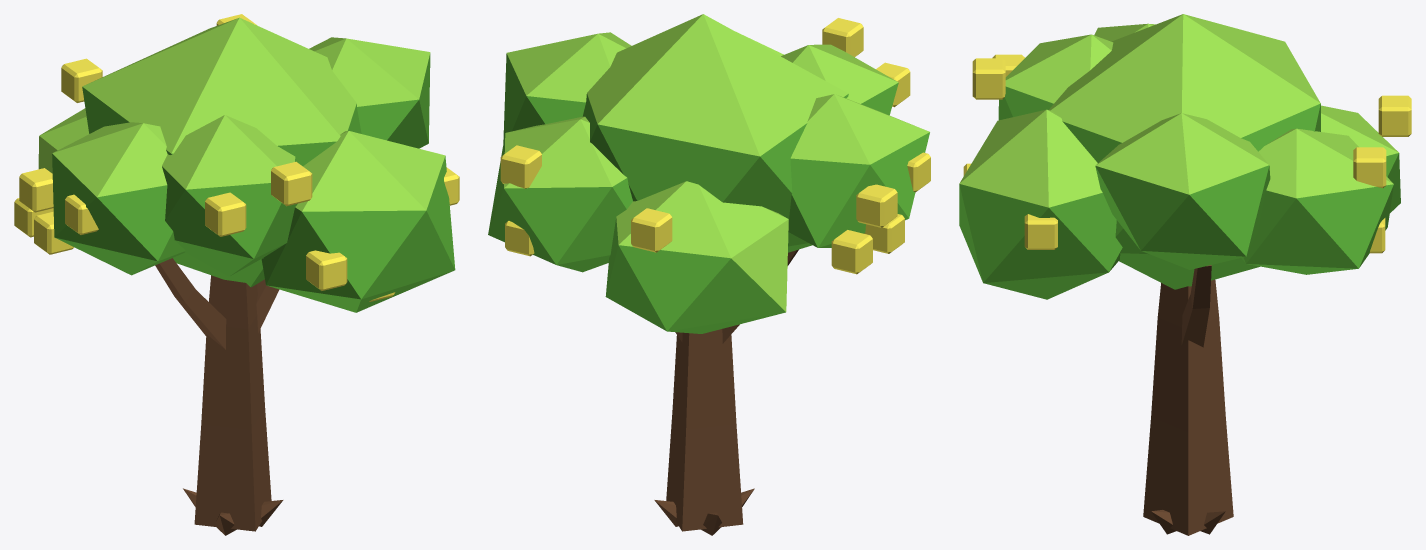
File: LemonTree.fbx
3 views of the same model, side by side, from view 1: azimuth 30°, elevation 25°; view 2: azimuth 150°, elevation 25°; view 3: azimuth 270°, elevation 25° (orthographic).
Parts seen in each view (by area): view 1: LemonTree; view 2: LemonTree; view 3: LemonTree.
Boxes of the visible parts, box(x1,y1,x2,y2) form: LemonTree: box(14, 14, 459, 535); LemonTree: box(488, 14, 930, 535); LemonTree: box(959, 14, 1411, 535).
Size of the model in its own units: 11.72 by 14.4 by 11.5.
Materials: 1 (1 with a texture image).
